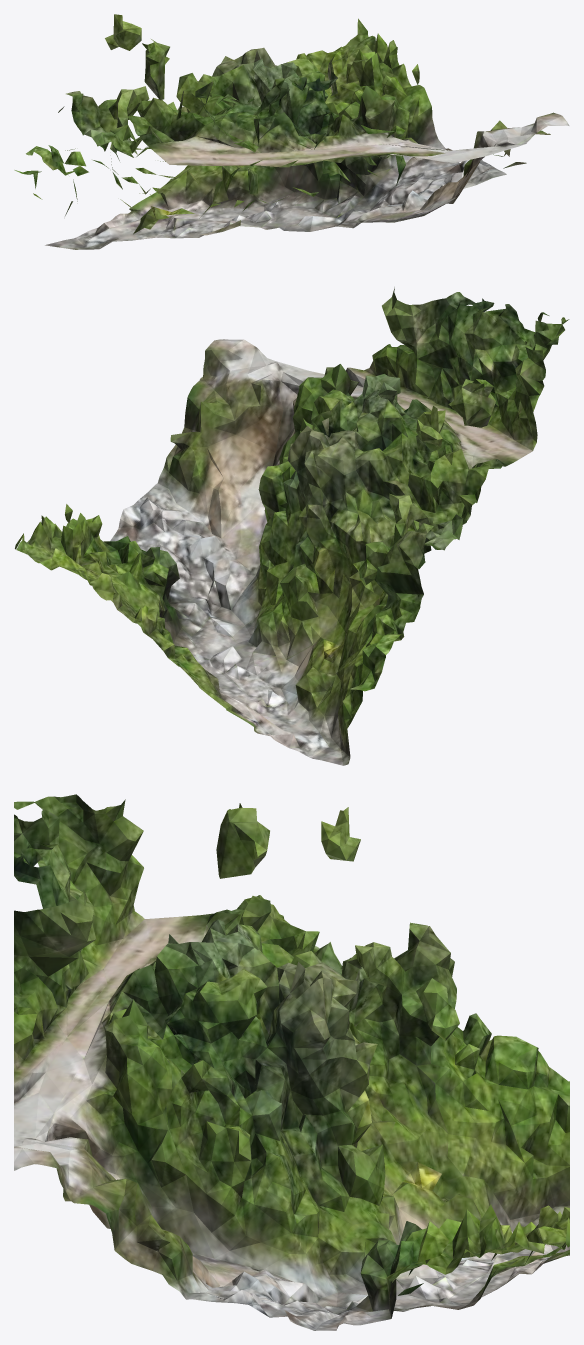
The picture shows the model from 3 angles, top to bottom: view 1: azimuth 30°, elevation 25°; view 2: azimuth 150°, elevation 25°; view 3: azimuth 270°, elevation 25°; orthographic projection. The views are drawn at different scales.
Bounding box in the file's own units: 52.22 × 41.56 × 52.22.
6 materials, 6 textured.
